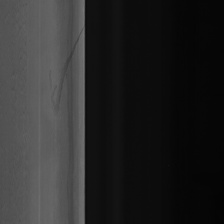water_spot: (49, 23, 84, 117)
